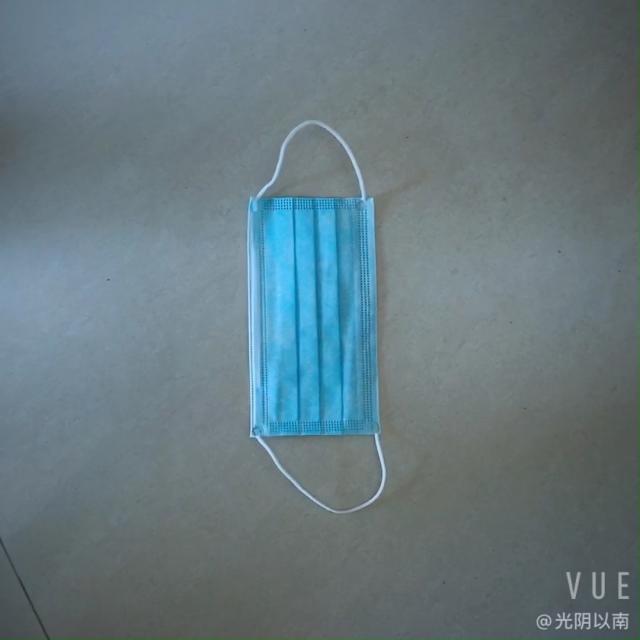non-organic waste: (224, 178, 398, 472)
